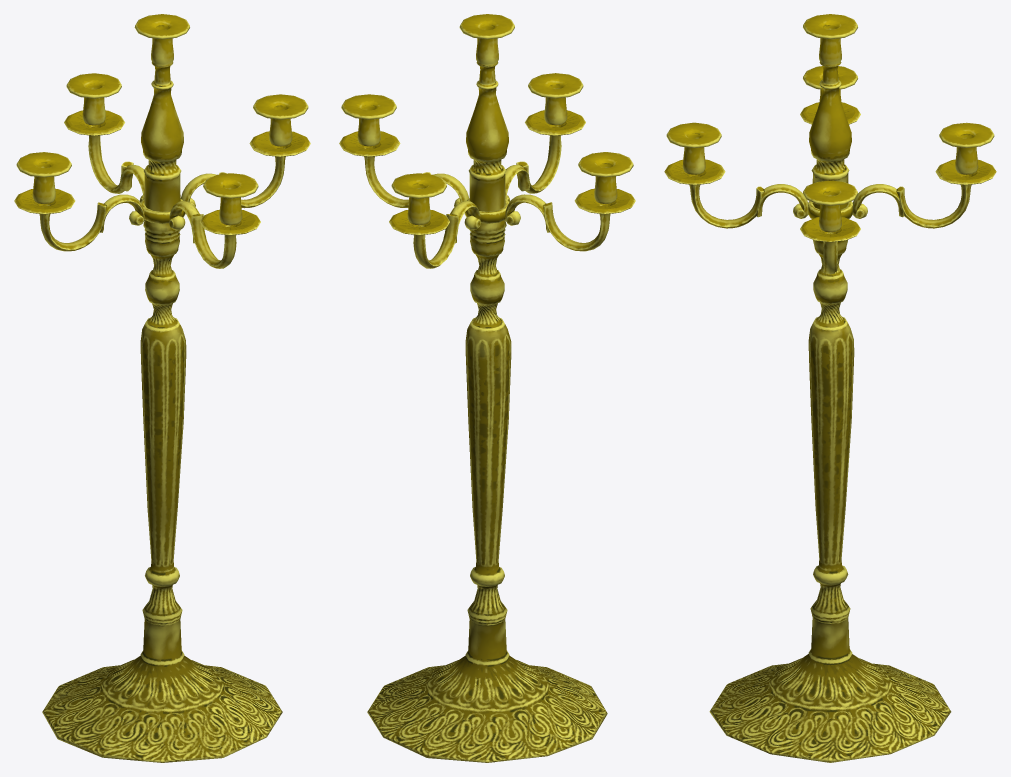
Rendered from SM_Candelabro.fbx.
3 renders of one model, left to right at view 1: azimuth 30°, elevation 25°; view 2: azimuth 150°, elevation 25°; view 3: azimuth 270°, elevation 25°, orthographic.
Visible parts, largest first — view 1: Body_low; view 2: Body_low; view 3: Body_low.
Boxes of the visible parts, x1,y1,x2,y2 form: Body_low: (14, 14, 310, 762); Body_low: (339, 14, 635, 762); Body_low: (664, 14, 996, 762).
Bounding box in the file's own units: 0.8397 × 1.92 × 0.8397.
